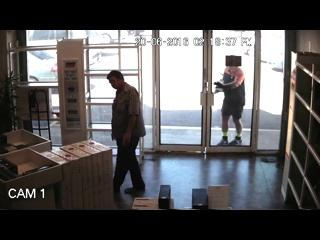Normal: (107, 70, 146, 196), (213, 54, 246, 146)
